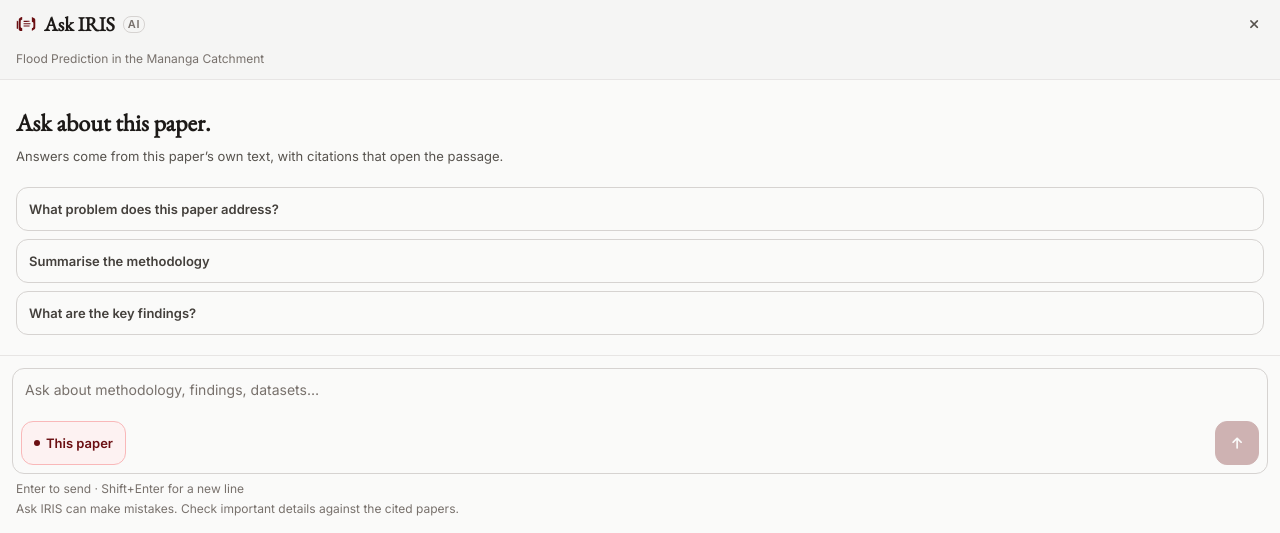
Test: Paper Chat opens or continues a Conversation scoped to the Record › never prefixes the question with the paper's title
This screenshot has width=1280, height=533.
In the text box named "ask about this paper": (640, 395) [13,369,1267,421], type "What datasets were used?"
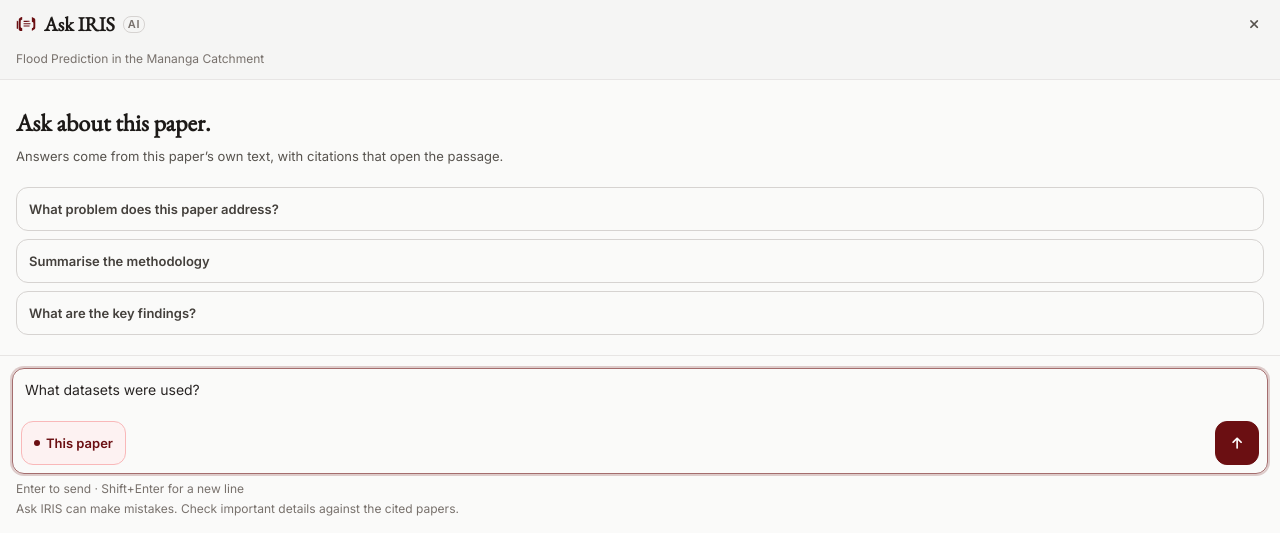
Click the button named "send": (1237, 443) [1215,421,1259,465]
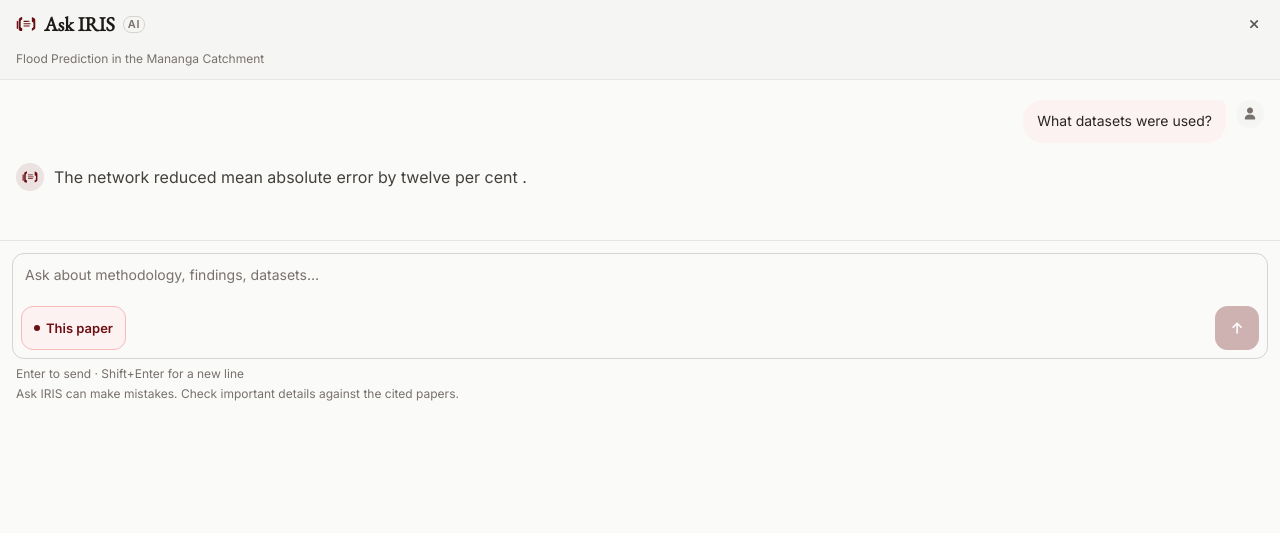
Expected: the text "What datasets were used?" is shown, [1037,110,1212,133]
